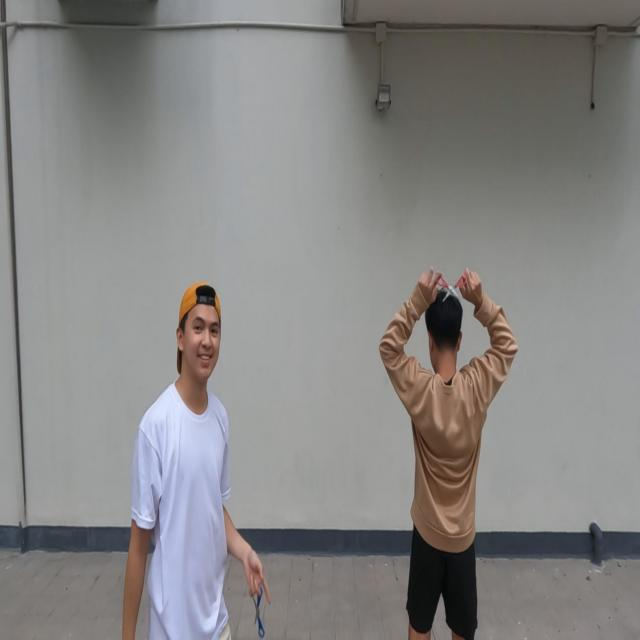scissor: (435, 271, 467, 303), (251, 583, 266, 640)
